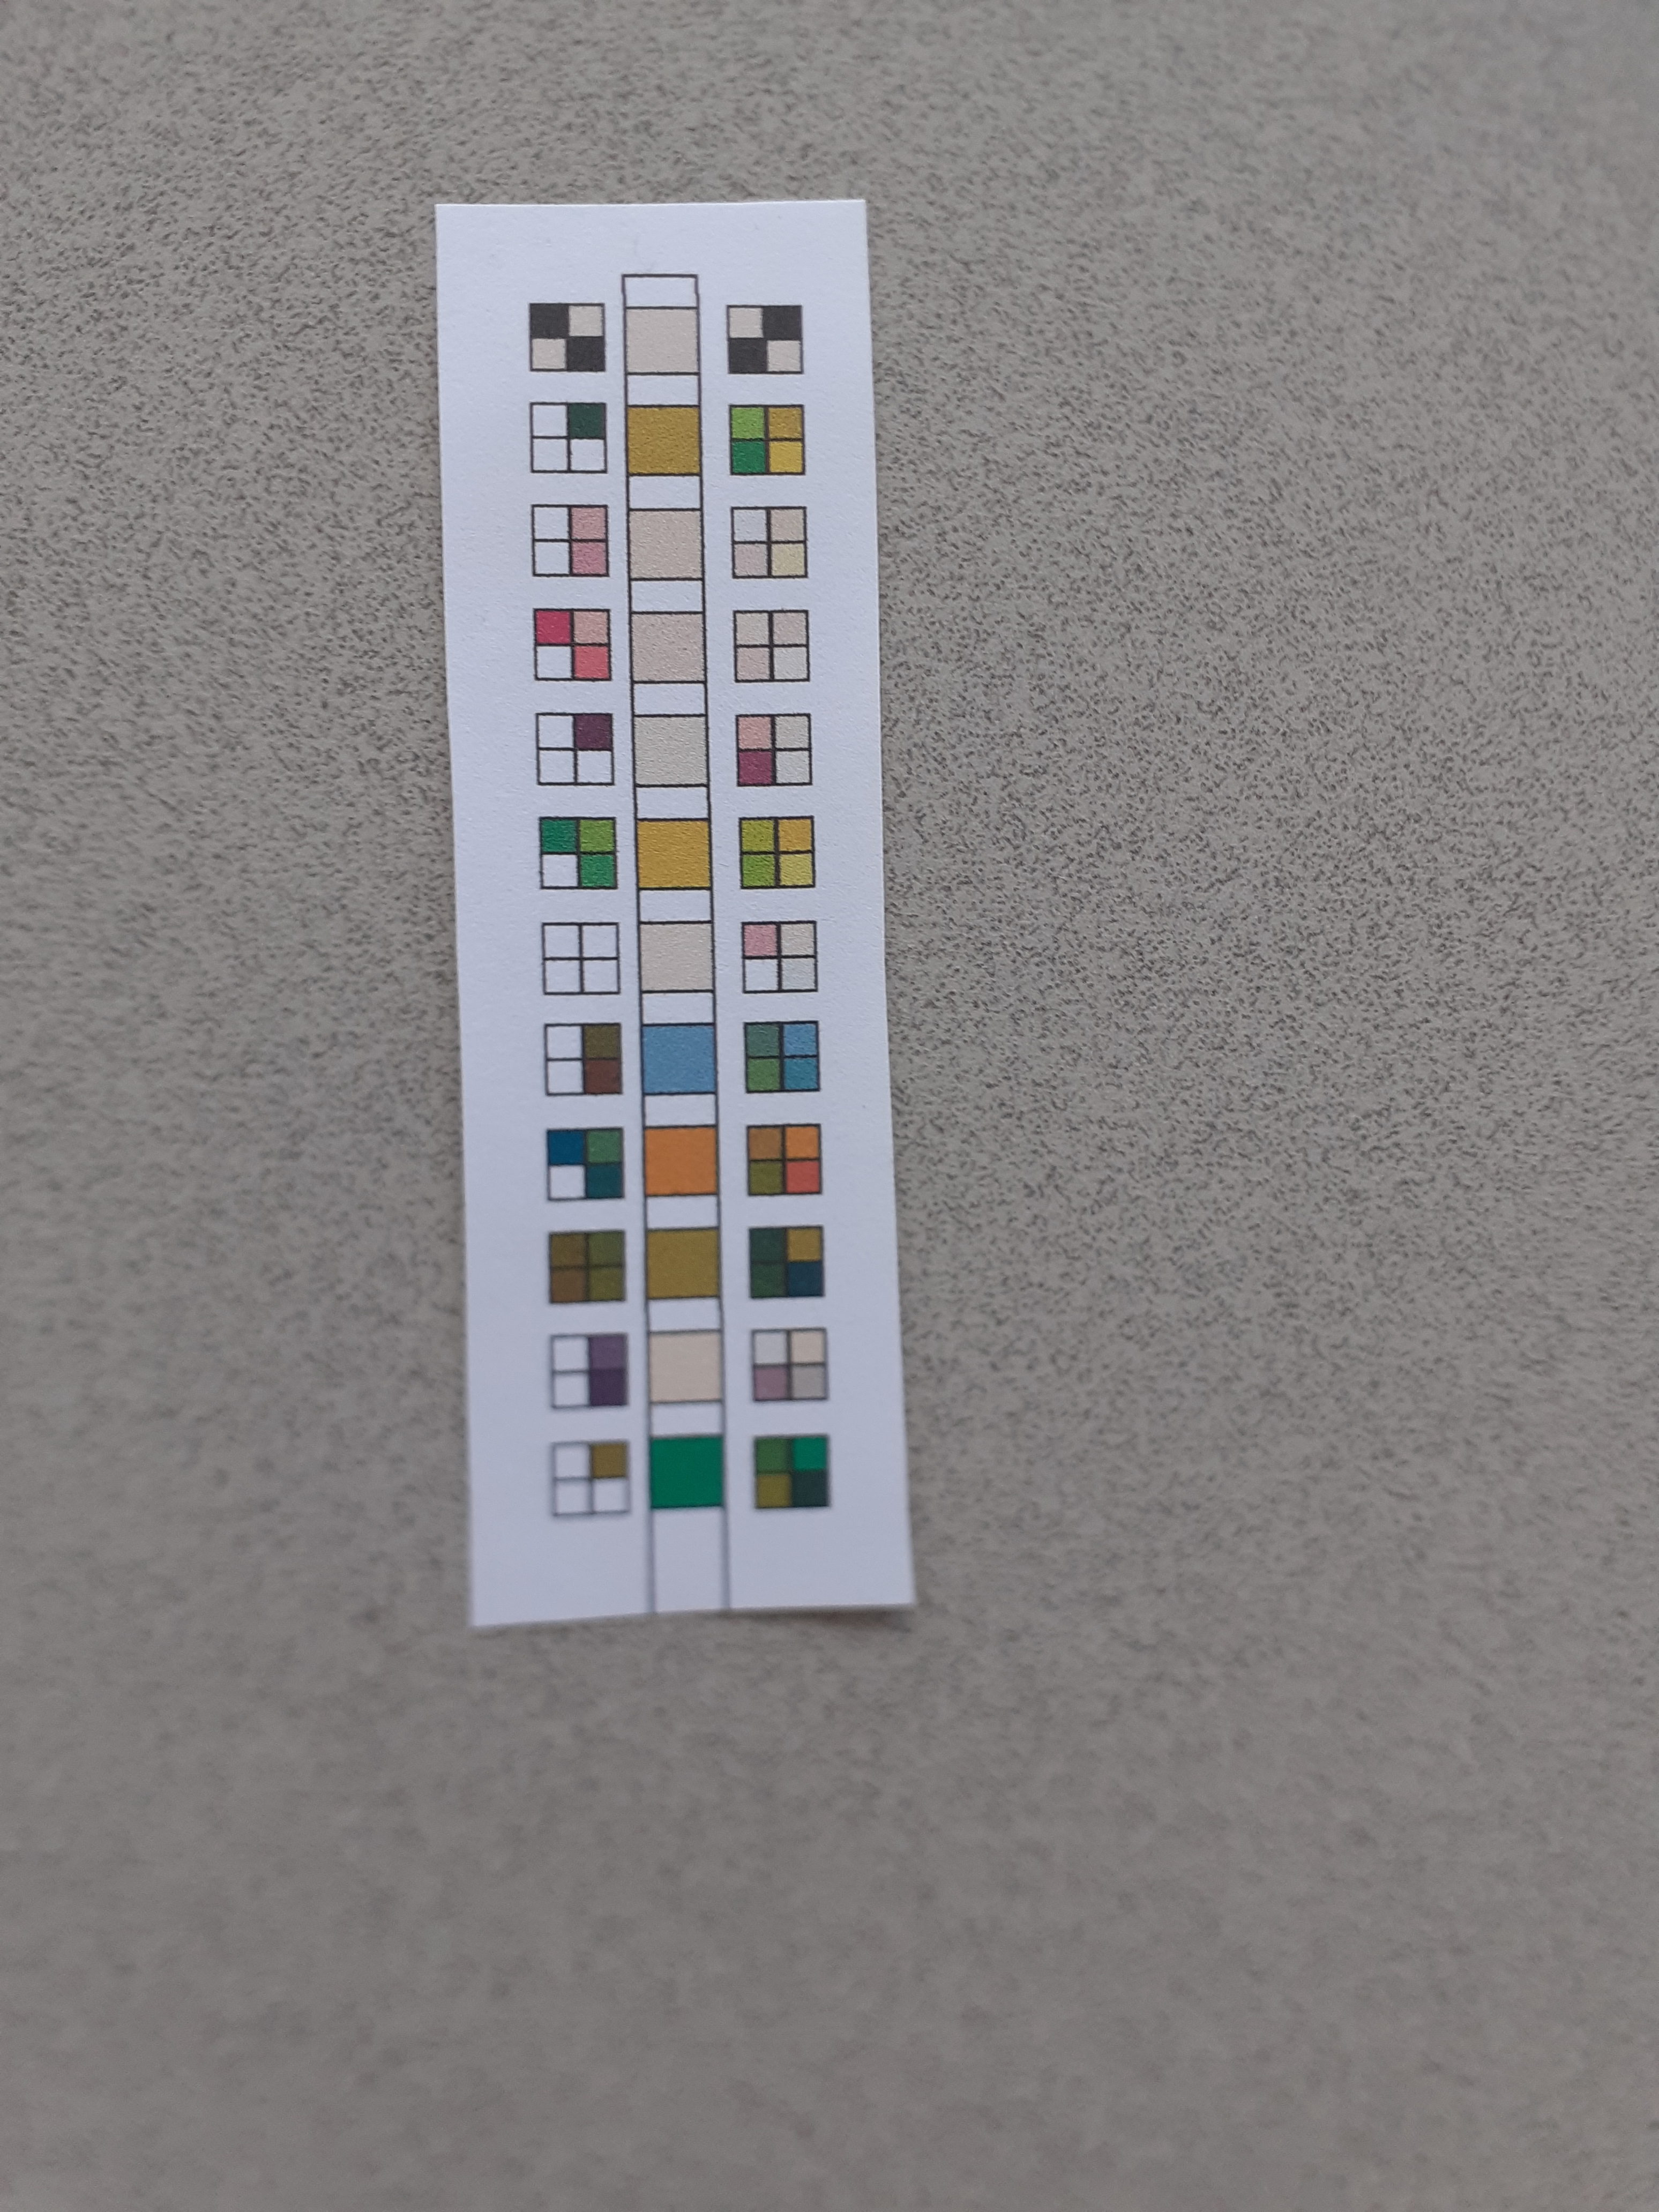tester: (437, 195, 911, 1606)
